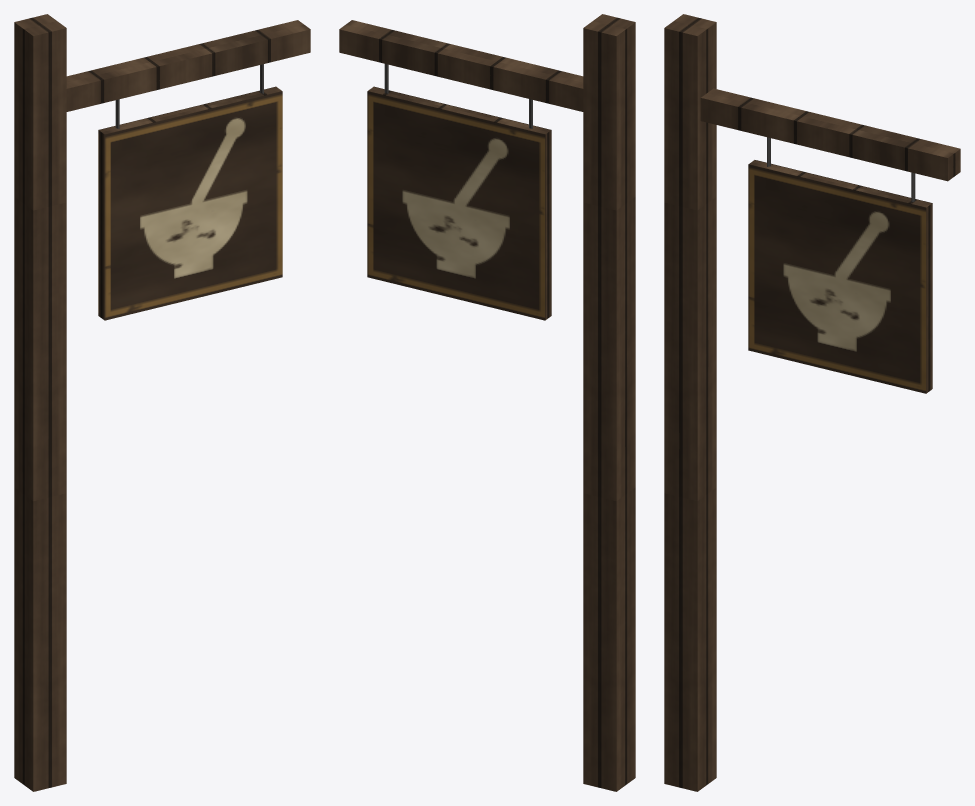
The model's file is Sign_Service_infirmerie_LOD2.gltf.
3 renders of one model, left to right at view 1: azimuth 30°, elevation 25°; view 2: azimuth 150°, elevation 25°; view 3: azimuth 330°, elevation 25°, orthographic.
Visible parts, largest first — view 1: Sign_Service_infirmerie_LOD2; view 2: Sign_Service_infirmerie_LOD2; view 3: Sign_Service_infirmerie_LOD2.
Boxes of the visible parts, box(x1,y1,x2,y2) form: Sign_Service_infirmerie_LOD2: box(14, 14, 310, 791); Sign_Service_infirmerie_LOD2: box(339, 14, 635, 791); Sign_Service_infirmerie_LOD2: box(664, 14, 960, 791).
Bounding box in the file's own units: 1.01 × 2.6 × 0.12.
Materials: 3 (3 with a texture image).
